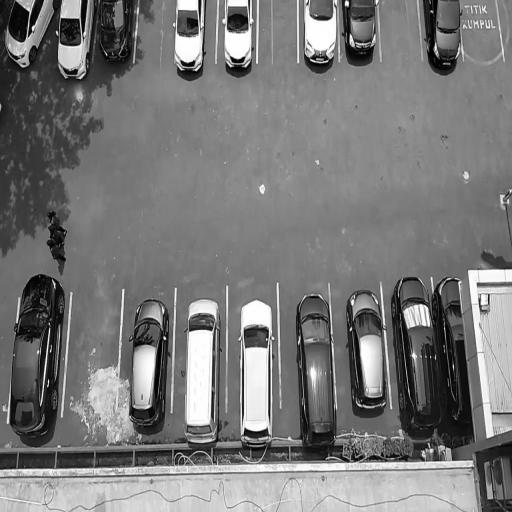Car: (7, 270, 67, 440), (392, 268, 445, 446), (292, 284, 342, 452), (434, 270, 474, 452), (235, 289, 279, 449), (181, 292, 224, 455), (344, 280, 392, 418), (126, 290, 171, 437), (3, 0, 54, 74), (54, 0, 96, 85), (424, 0, 462, 84), (171, 0, 209, 82), (301, 0, 340, 77), (219, 0, 258, 74), (341, 0, 381, 65), (97, 0, 134, 70)
Space Available: (71, 278, 115, 426), (136, 0, 174, 71), (378, 0, 420, 63), (462, 0, 504, 61), (258, 0, 298, 61)
